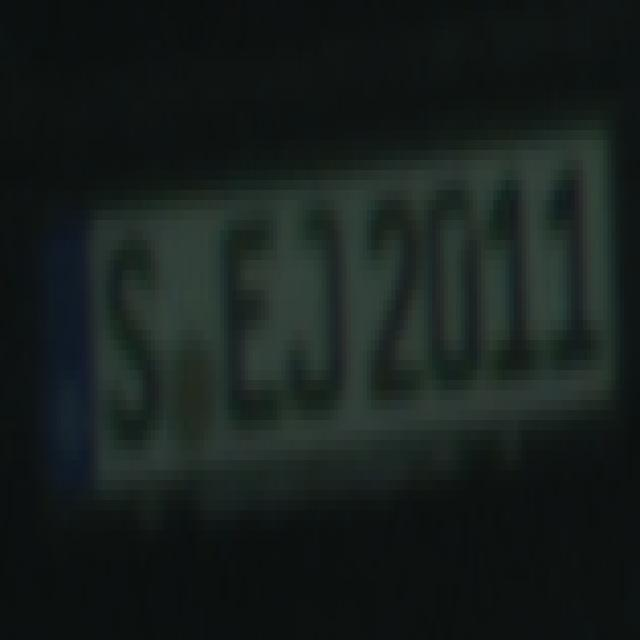Autre: (37, 144, 622, 495)
